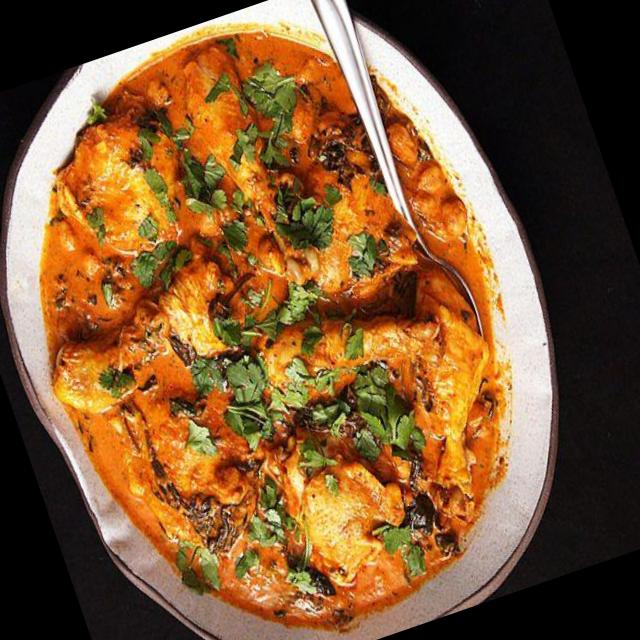chicken: (0, 0, 553, 633)
